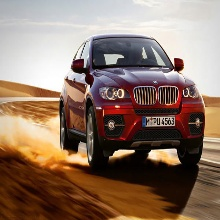no damage: (59, 33, 206, 169)
